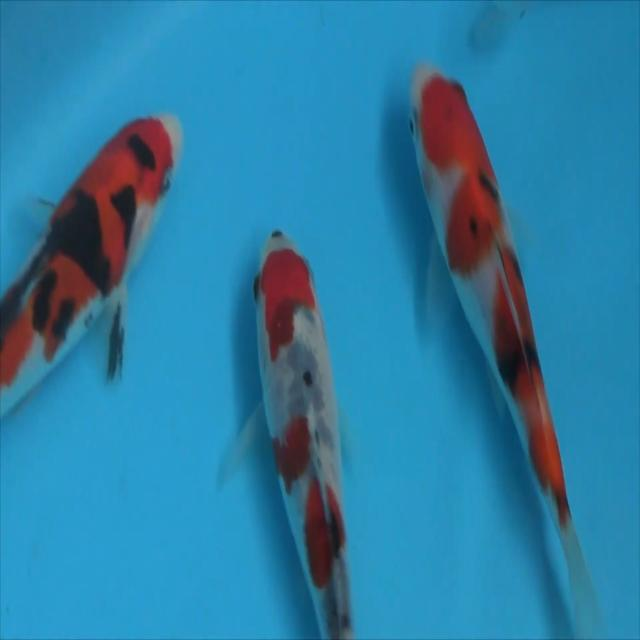Sanke: (407, 62, 602, 637), (1, 110, 183, 421), (217, 228, 354, 638)
